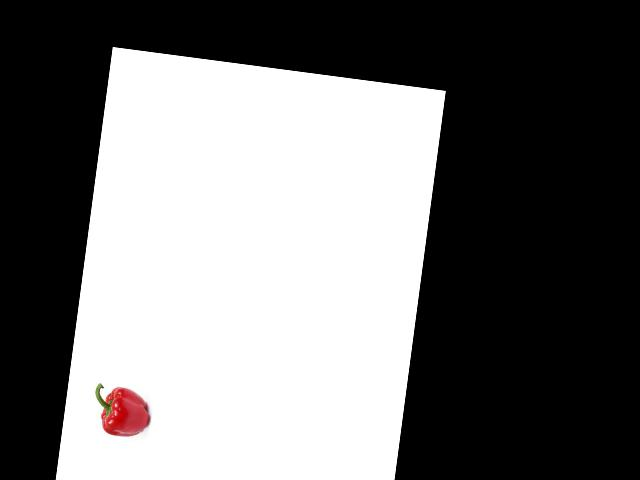bell_pepper: (88, 380, 154, 443)
